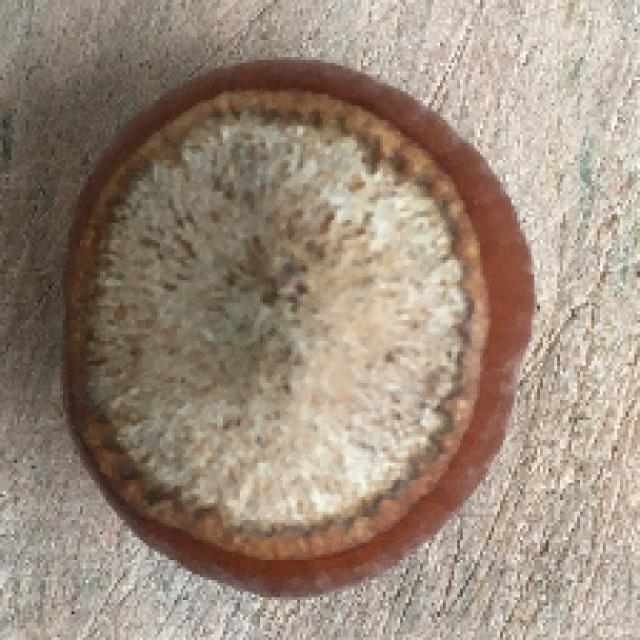qualityHazelnut: (58, 52, 539, 600)
